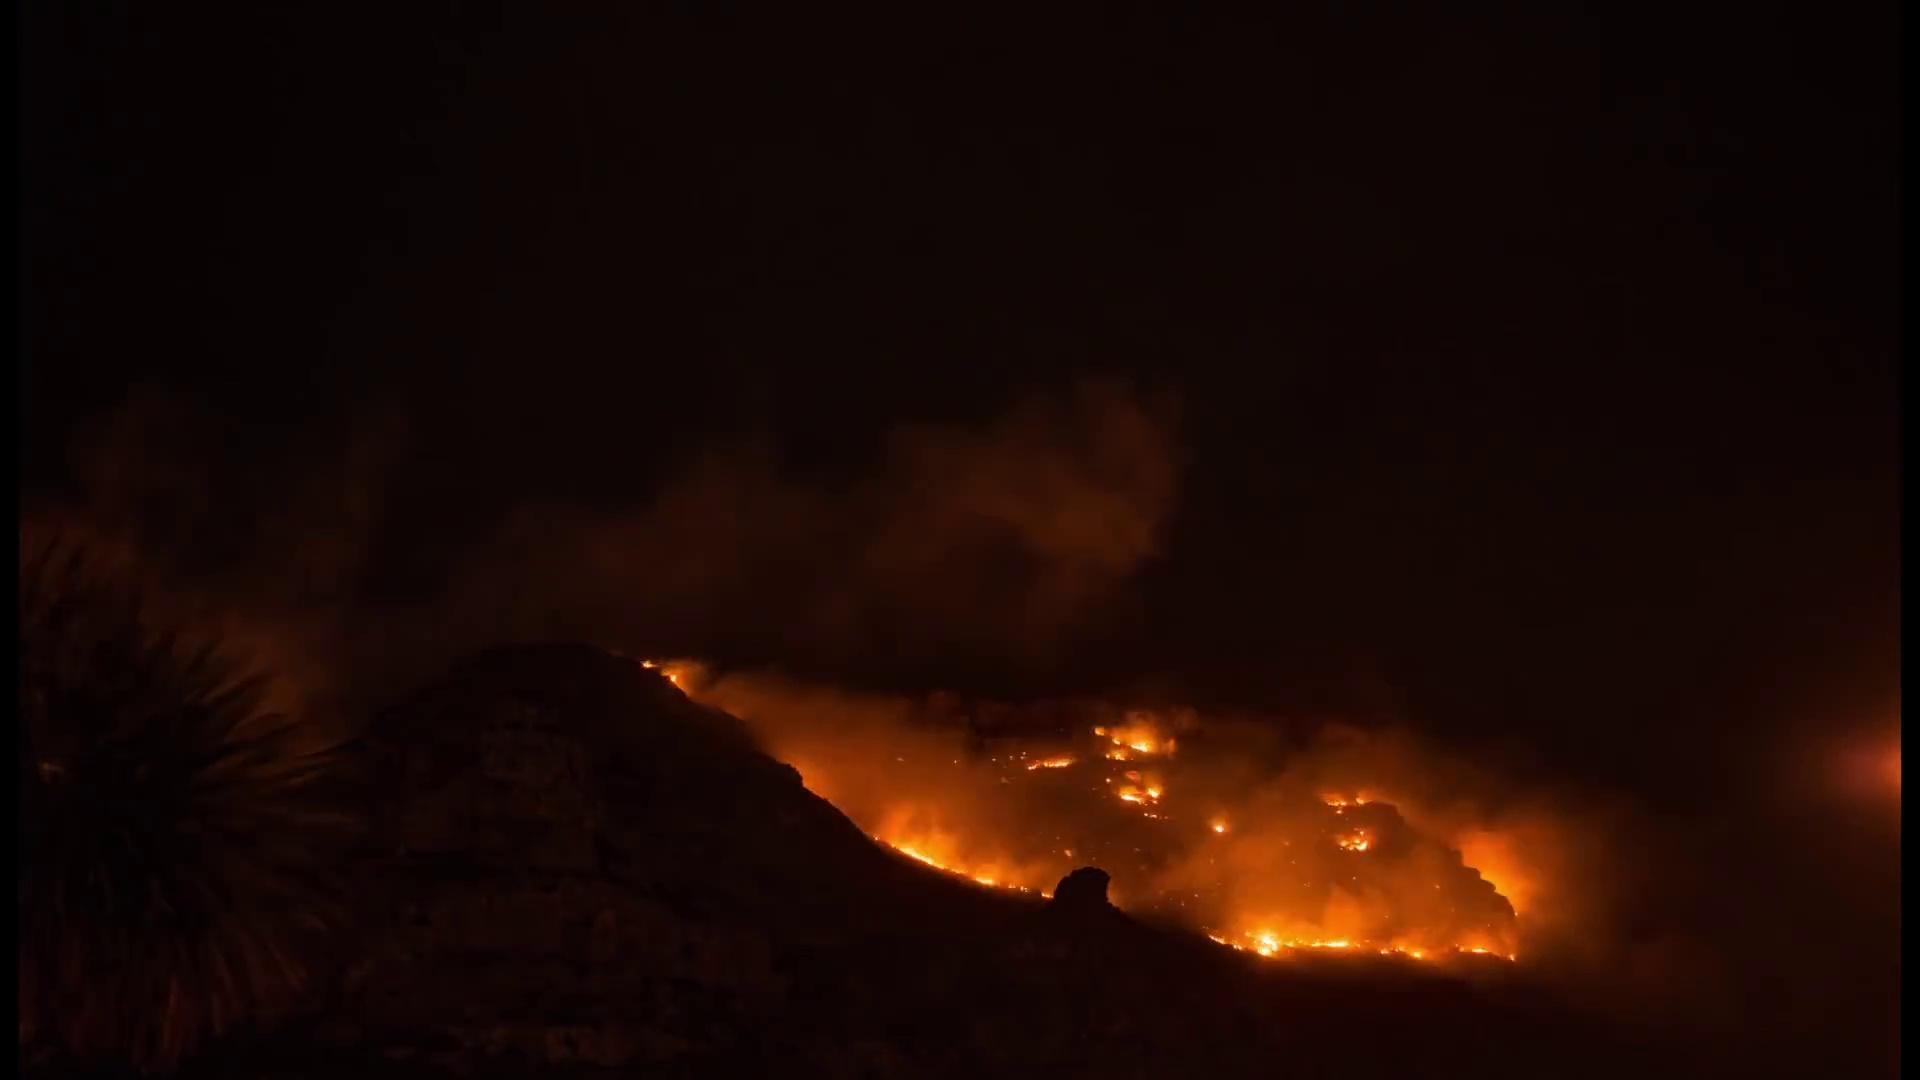fire: (1240, 915, 1518, 970), (1112, 710, 1172, 813), (892, 830, 968, 870)
